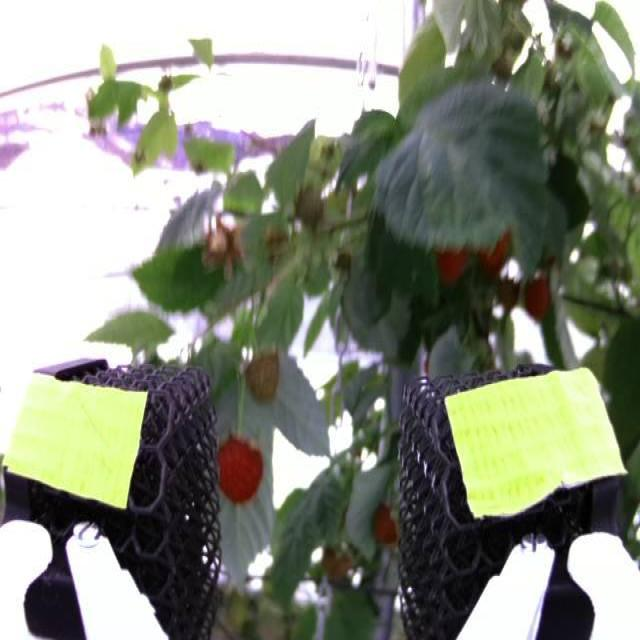Riped berries: (213, 430, 270, 507), (434, 236, 467, 288), (525, 270, 558, 322), (478, 227, 511, 274), (373, 500, 402, 546)
